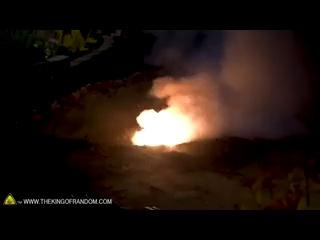Fire: (128, 102, 200, 146)
